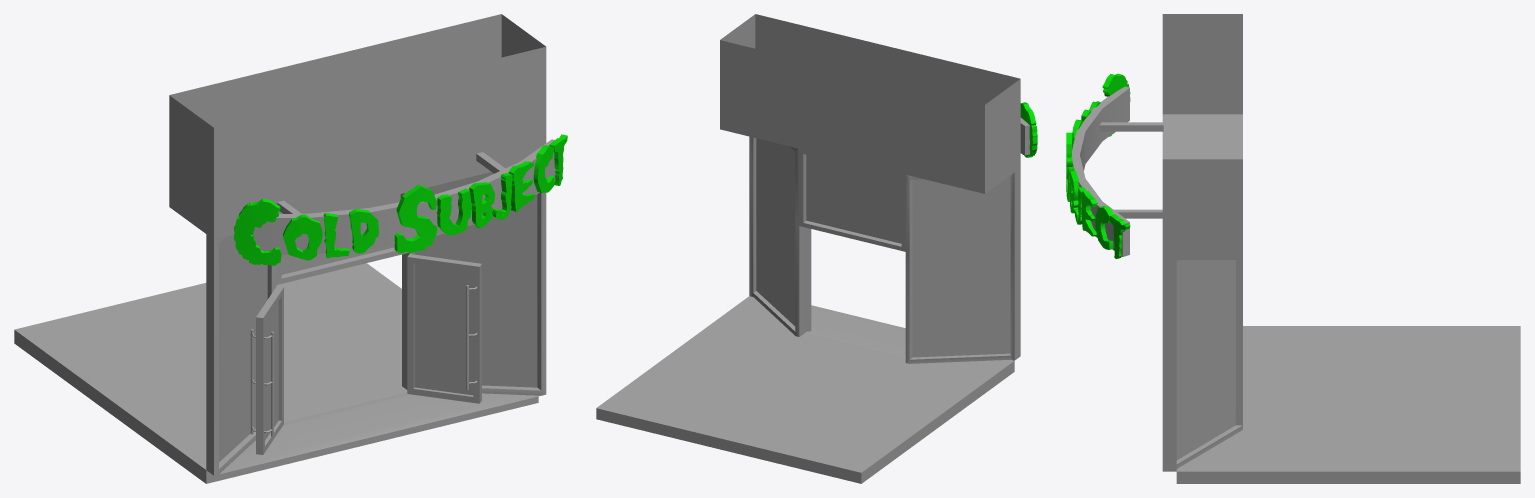
Rendered from CS_SM_StrFr_CldSbj.fbx.
3 renders of one model, left to right at view 1: azimuth 30°, elevation 25°; view 2: azimuth 150°, elevation 25°; view 3: azimuth 270°, elevation 25°, orthographic. The views are drawn at different scales.
Visible parts, largest first — view 1: SM_StrFr_CldSbj_; view 2: SM_StrFr_CldSbj_; view 3: SM_StrFr_CldSbj_.
Boxes of the visible parts, <box> form: SM_StrFr_CldSbj_: <box>14,14,567,483</box>; SM_StrFr_CldSbj_: <box>596,14,1037,483</box>; SM_StrFr_CldSbj_: <box>1066,14,1520,483</box>.
Bounding box in the file's own units: 502 × 520 × 660.
